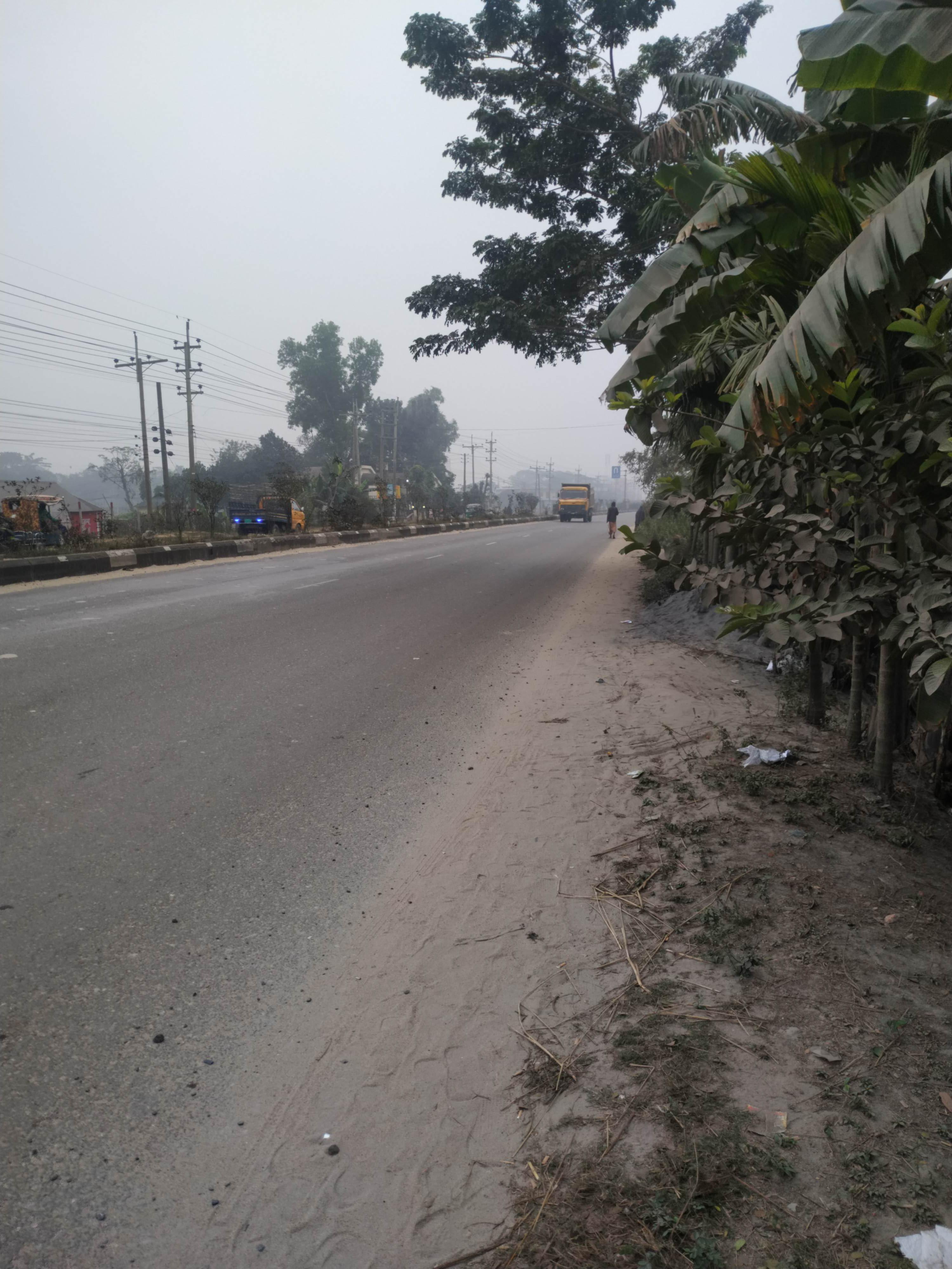Car: (6, 477, 119, 559)
Truck: (217, 474, 325, 551), (534, 474, 608, 536)
